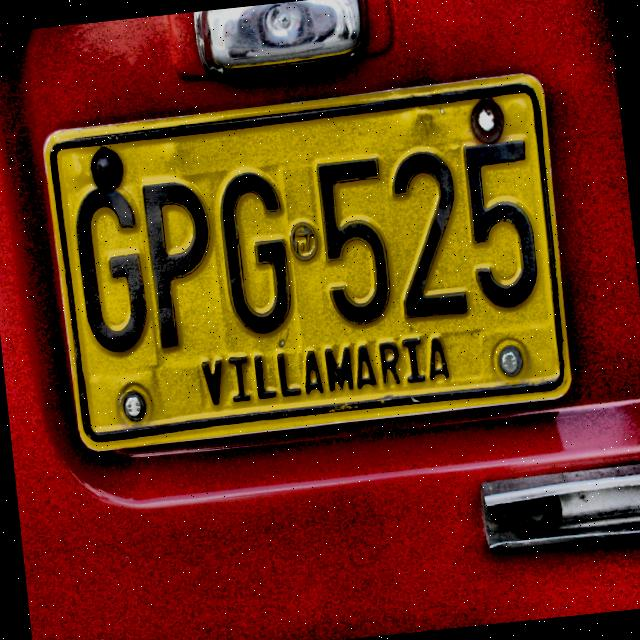plate: (42, 75, 572, 452)
